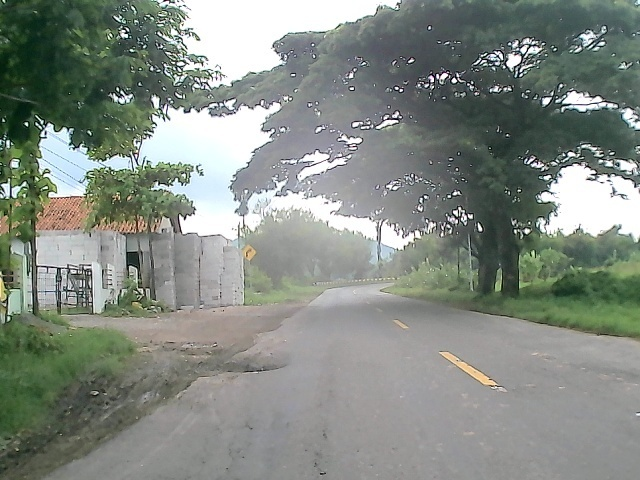Tikungan ke kanan: (239, 243, 257, 261)
